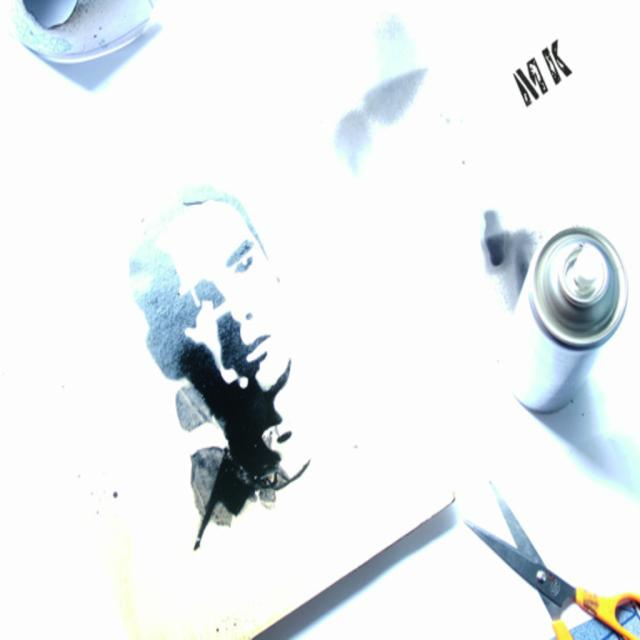scissors: (462, 479, 640, 639)
